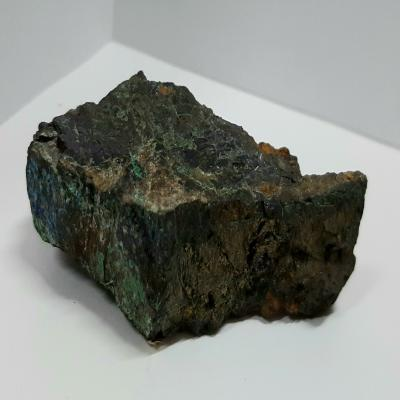mineralogy: (25, 71, 368, 350)
